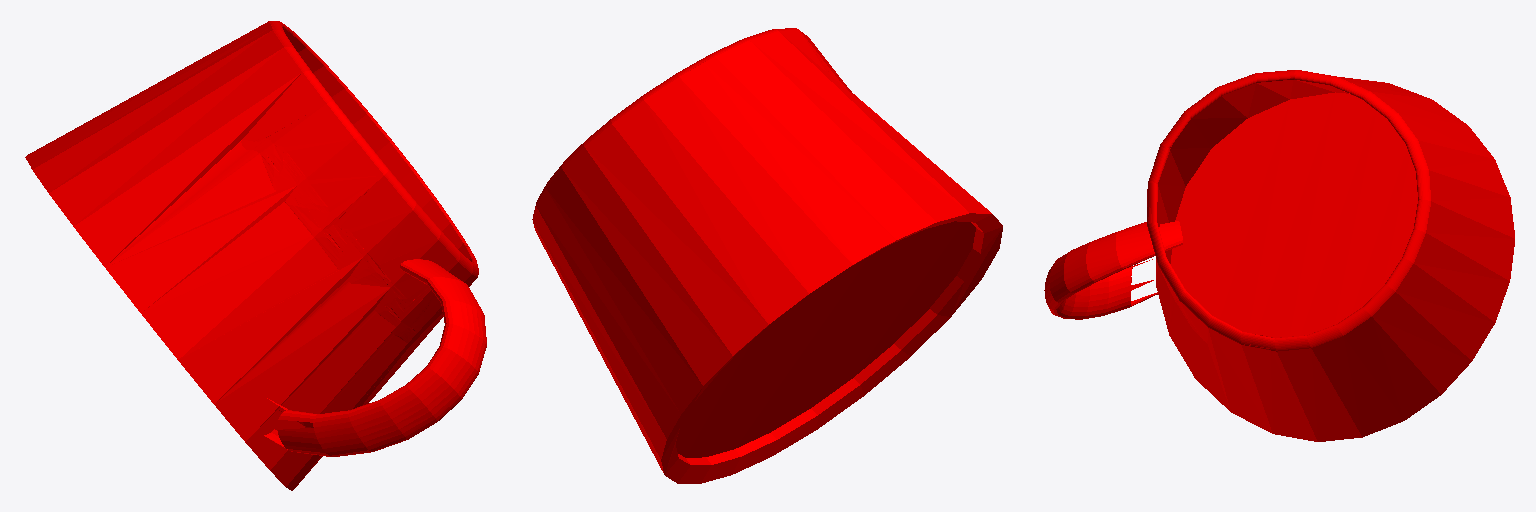
The robot description file, URDF, robot "tmp.urdf":
<?xml version="1.0" ?>
<robot name="tmp.urdf">
  <link name="baseLink">
    <inertial>
      <origin rpy="0 0 0" xyz="0 0 0"/>
       <mass value=".1"/>
       <inertia ixx="1" ixy="0" ixz="0" iyy="1" iyz="0" izz="1"/>
    </inertial>
    <contact>
      <lateral_friction value="1.0"/>
      <inertia_scaling value="3.0"/>
    </contact>
    <visual>
      <origin rpy="0 0 0" xyz="0 0 0"/>
      <geometry>
        <mesh filename="tmp_source.obj" scale="1 1 1" />
      </geometry>
      <material name="red">
        <color rgba="1 0 0 1"/>
      </material>
    </visual>
    <collision>
      <origin rpy="0 0 0" xyz="0 0 0"/>
      <geometry>
        <mesh filename="tmp_source_cd.obj" scale="1 1 1" />
      </geometry>
    </collision>
  </link>
</robot>

--- Facts derived from the render (not from the file) ---
The picture shows the robot from 3 angles, left to right: view 1: azimuth 30°, elevation 25°; view 2: azimuth 150°, elevation 25°; view 3: azimuth 270°, elevation 25°; orthographic projection.
Model tmp.urdf with 1 links and 0 joints (none), rooted at baseLink, posed all joints at 0.
Links seen in each view (by area): view 1: baseLink; view 2: baseLink; view 3: baseLink.
Link boxes in pixels (x1,y1,x2,y2): baseLink: (25, 21, 486, 490); baseLink: (532, 28, 1002, 483); baseLink: (1044, 70, 1514, 441).
Bounding box of the posed robot: 0.1863 × 0.2225 × 0.1932 m (x, y, z).
Meshes: 1 distinct files referenced, 1 mesh visuals loaded (1 OBJ).